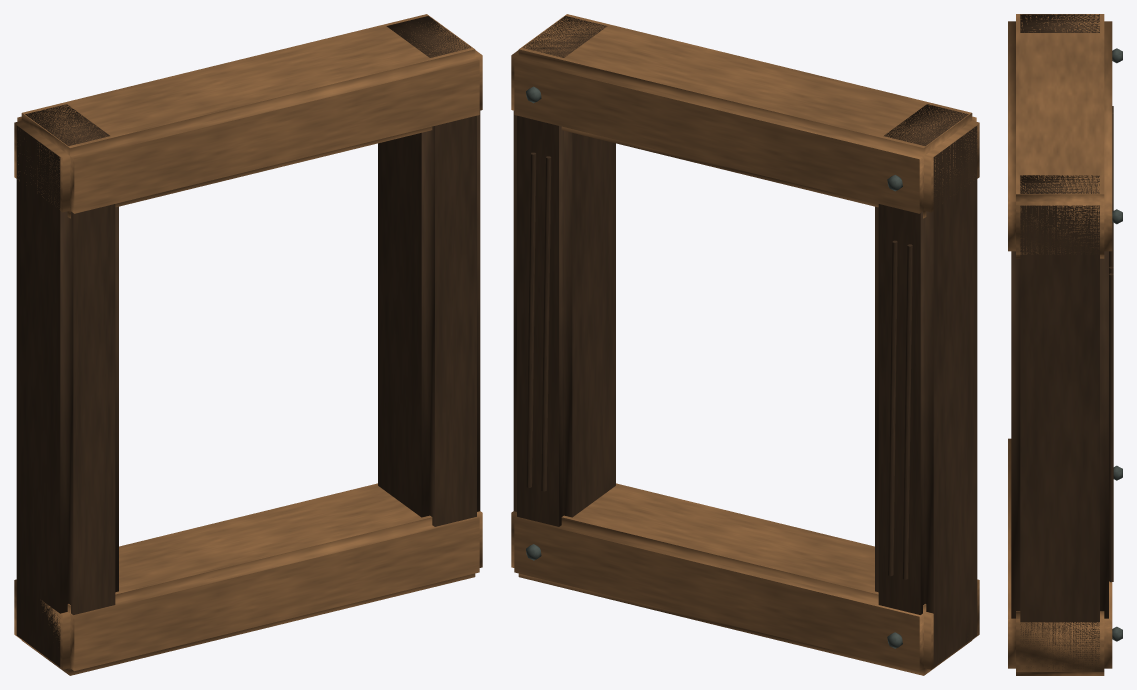
File: timber-doorframe-1.fbx
The picture shows the model from 3 angles, left to right: view 1: azimuth 30°, elevation 25°; view 2: azimuth 150°, elevation 25°; view 3: azimuth 270°, elevation 25°; orthographic projection. The views are drawn at different scales.
Parts seen in each view (by area): view 1: timber-doorframe-1__Geometry; view 2: timber-doorframe-1__Geometry; view 3: timber-doorframe-1__Geometry.
Boxes of the visible parts, bbox=[...] form: timber-doorframe-1__Geometry: bbox=[14, 14, 482, 675]; timber-doorframe-1__Geometry: bbox=[511, 14, 979, 675]; timber-doorframe-1__Geometry: bbox=[1008, 14, 1122, 675].
Size of the model in its own units: 1 by 1.2 by 0.2591.
Materials: 1 (1 with a texture image).
